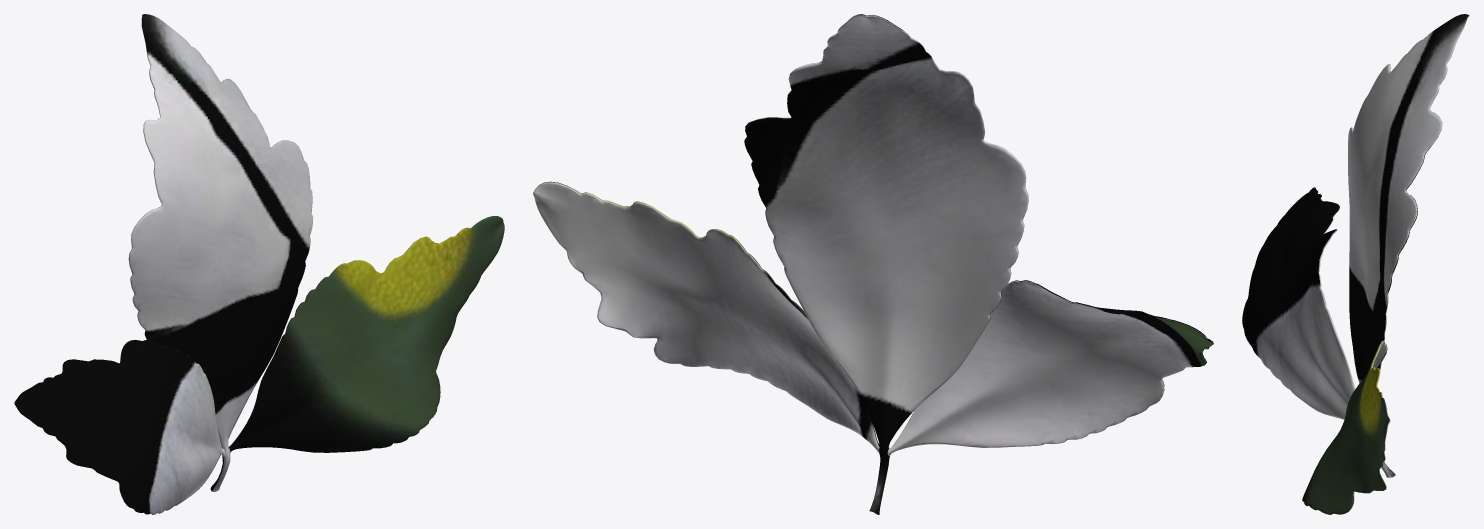
Rendered from leaf2.obj.
The picture shows the model from 3 angles, left to right: view 1: azimuth 30°, elevation 25°; view 2: azimuth 150°, elevation 25°; view 3: azimuth 270°, elevation 25°; orthographic projection. The views are drawn at different scales.
Visible parts, largest first — view 1: 12973_anemone_flower; view 2: 12973_anemone_flower; view 3: 12973_anemone_flower.
Boxes of the visible parts, <box> form: 12973_anemone_flower: <box>14,14,504,514</box>; 12973_anemone_flower: <box>533,14,1213,514</box>; 12973_anemone_flower: <box>1242,14,1469,514</box>.
Bounding box in the file's own units: 8.96 × 7.38 × 3.4.
1 material, 1 textured.
